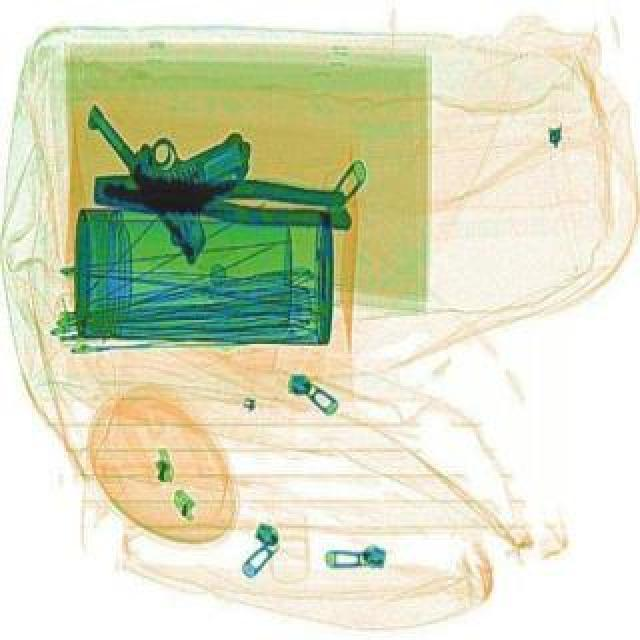gun: (74, 50, 290, 266)
wrench: (90, 162, 354, 228)
